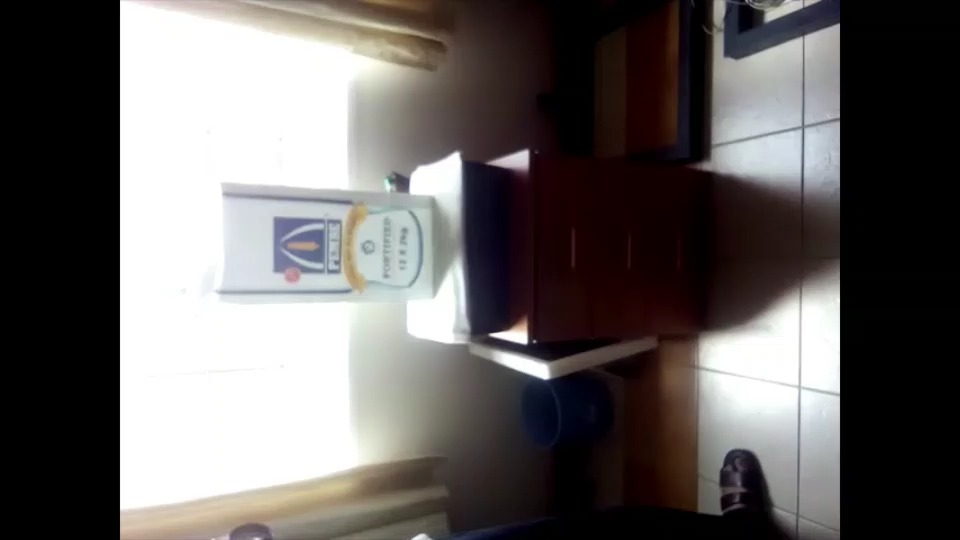wheat_flour_blue_label: (217, 184, 428, 291)
